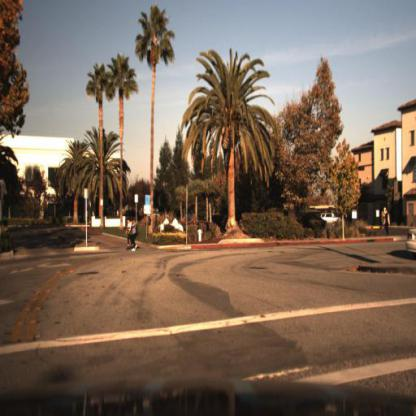car: (321, 208, 346, 228)
pedestrian: (131, 216, 142, 253), (123, 217, 133, 253)
